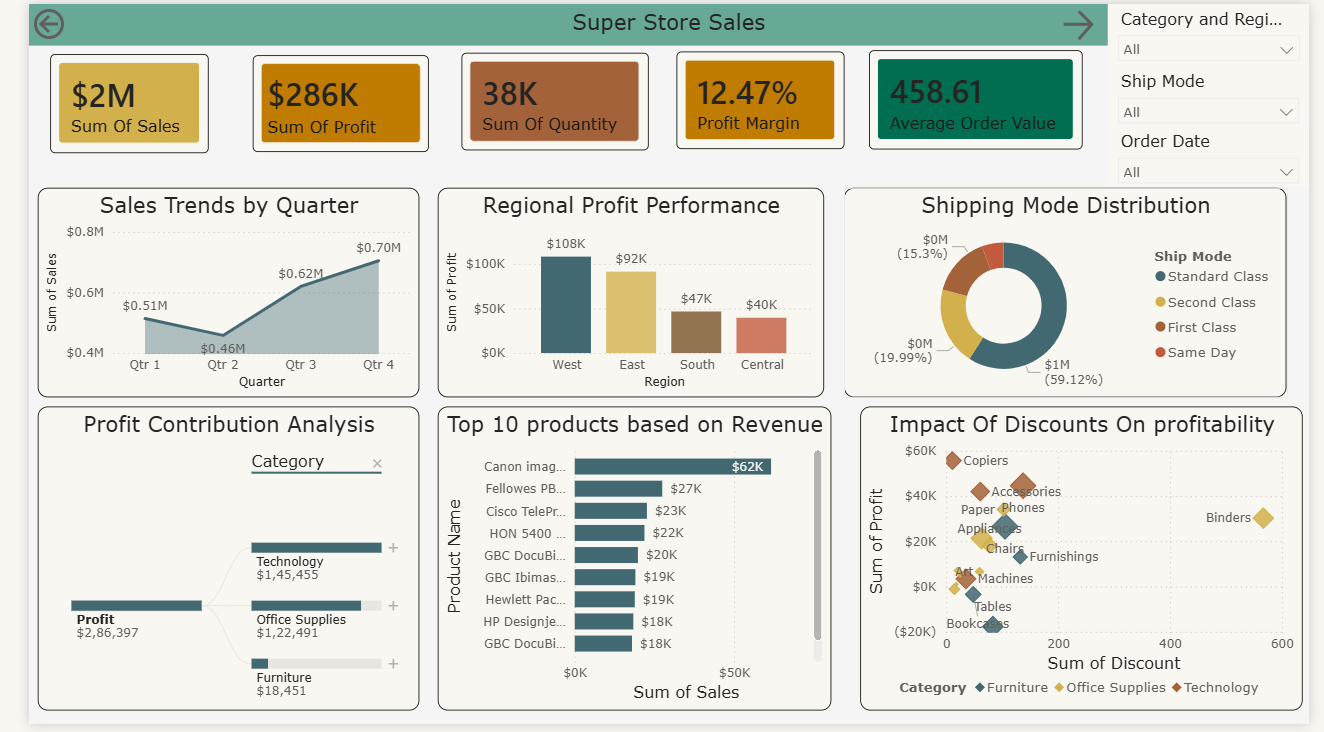

This screenshot's page, from the dashboard's own definition file:
{"tool":"powerbi","page":{"name":"Page 1","canvas":[1280,720],"ordinal":0},"visuals":[{"type":"textbox","box":[0,0,1280,41.8],"z":0},{"type":"cardVisual","fields":{"Data":["Sum(super store sales.Profit)"]},"box":[223.2,50.7,176.1,96.5],"z":1000},{"type":"cardVisual","fields":{"Data":["Sum(super store sales.Quantity)"]},"box":[431.9,48.3,187,97.7],"z":2000},{"type":"donutChart","title":"Shipping Mode Distribution","fields":{"Category":["super store sales.Ship Mode"],"Y":["Sum(super store sales.Sales)"]},"box":[815.6,183.4,442.8,209.9],"z":3000},{"type":"lineChart","title":" Sales Trends by Quarter","fields":{"Category":["super store sales.Order Date.Variation.Date Hierarchy.Quarter"],"Y":["Sum(super store sales.Sales)"]},"box":[8.4,183.4,381.2,209.9],"z":4000},{"type":"columnChart","title":"Regional  Profit Performance","fields":{"Category":["super store sales.Region"],"Y":["Sum(super store sales.Profit)"]},"box":[409,183.4,386.1,209.9],"z":5000},{"type":"cardVisual","fields":{"Data":["super store sales.profit margin"]},"box":[647.9,47.1,167.7,97.7],"z":6000},{"type":"cardVisual","fields":{"Data":["Sum(super store sales.Sales)"]},"box":[21.7,49.5,158,98.9],"z":7000},{"type":"cardVisual","fields":{"Data":["super store sales.Average Order Value"]},"box":[839.7,45.8,213.5,98.9],"z":8000},{"type":"decompositionTreeVisual","title":"Profit Contribution Analysis","fields":{"Analyze":["Sum(super store sales.Profit)"],"ExplainBy":["super store sales.Category","super store sales.Customer Name","super store sales.Region","super store sales.Sub-Category","super store sales.Ship Mode"]},"box":[8.4,403,381.2,304],"z":9000},{"type":"barChart","title":"Top 10 products based on Revenue","fields":{"Y":["Sum(super store sales.Sales)"],"Category":["super store sales.Product Name"]},"box":[409,403,393.3,304],"z":10000},{"type":"scatterChart","title":"Impact Of Discounts On profitability","fields":{"X":["Sum(super store sales.Discount)"],"Y":["Sum(super store sales.Profit)"],"Series":["super store sales.Category"],"Size":["Sum(super store sales.Sales)"],"Category":["super store sales.Sub-Category"]},"box":[831.2,403,442.8,304],"z":11000},{"type":"slicer","fields":{"Values":["super store sales.Category","super store sales.Region"]},"box":[1078.3,0,201.7,62.5],"z":12000},{"type":"actionButton","box":[0,0,100,40],"z":13000},{"type":"slicer","fields":{"Values":["super store sales.Ship Mode"]},"box":[1078.9,62.2,201.1,66.7],"z":14000},{"type":"actionButton","box":[1028.8,1.2,50,40],"z":15000},{"type":"slicer","fields":{"Values":["super store sales.Order Date"]},"box":[1078.6,123.1,201.5,60.3],"z":16000}]}

Visuals, with their boxes in screenshot pixels (x1, y1, x2, y2), scaled from the page's 1280x720 canvas onto the 1324x732 screenshot:
textbox: box(0, 0, 1323, 42)
cardVisual - Sum(super store sales.Profit): box(231, 52, 413, 150)
cardVisual - Sum(super store sales.Quantity): box(447, 49, 640, 148)
"Shipping Mode Distribution" donutChart: box(844, 186, 1302, 400)
" Sales Trends by Quarter" lineChart: box(9, 186, 403, 400)
"Regional  Profit Performance" columnChart: box(423, 186, 822, 400)
cardVisual - super store sales.profit margin: box(670, 48, 844, 147)
cardVisual - Sum(super store sales.Sales): box(22, 50, 186, 151)
cardVisual - super store sales.Average Order Value: box(869, 47, 1089, 147)
"Profit Contribution Analysis" decompositionTreeVisual: box(9, 410, 403, 719)
"Top 10 products based on Revenue" barChart: box(423, 410, 830, 719)
"Impact Of Discounts On profitability" scatterChart: box(860, 410, 1318, 719)
slicer - super store sales.Category x super store sales.Region: box(1115, 0, 1323, 64)
actionButton: box(0, 0, 103, 41)
slicer - super store sales.Ship Mode: box(1116, 63, 1323, 131)
actionButton: box(1064, 1, 1116, 42)
slicer - super store sales.Order Date: box(1116, 125, 1323, 186)
